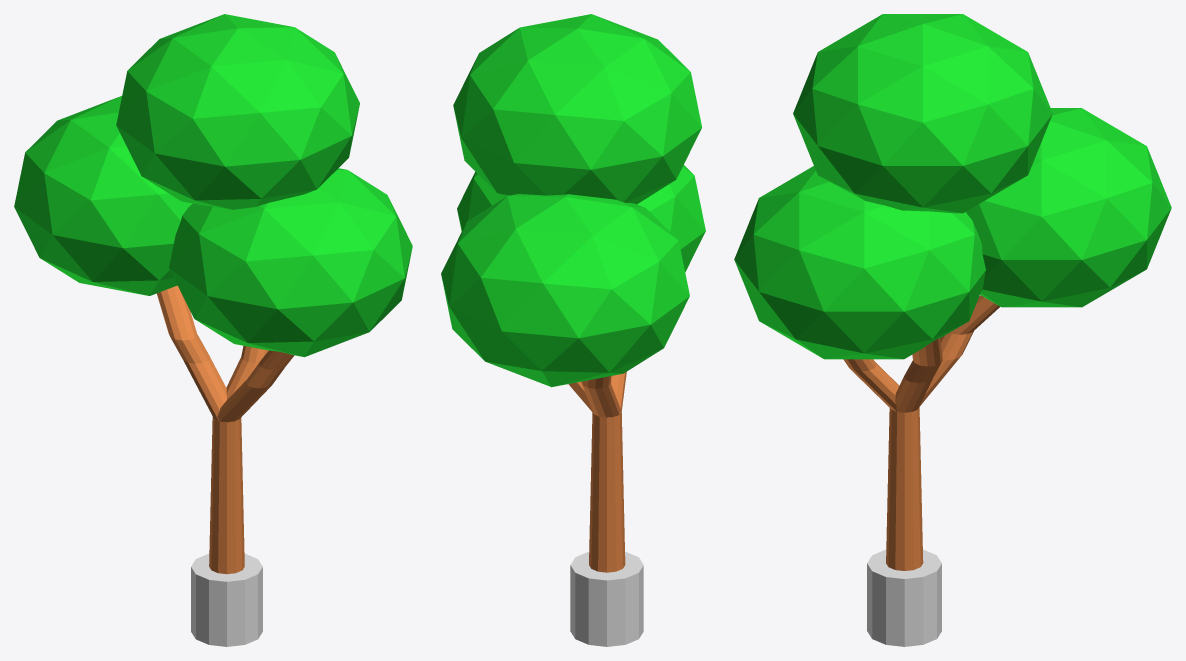
Rendered from low-poly-tree.glb.
The picture shows the model from 3 angles, left to right: view 1: azimuth 30°, elevation 25°; view 2: azimuth 150°, elevation 25°; view 3: azimuth 270°, elevation 25°; orthographic projection. The views are drawn at different scales.
Visible parts, largest first — view 1: Icosphere.002, Icosphere, Icosphere.001, Cylinder.001, Cylinder, Cylinder.002, Cylinder.003; view 2: Icosphere.001, Icosphere.002, Cylinder, Cylinder.001, Icosphere, Cylinder.002; view 3: Icosphere.002, Icosphere, Icosphere.001, Cylinder.001, Cylinder, Cylinder.003, Cylinder.002.
Boxes of the visible parts, x1,y1,x2,y2 form: Icosphere.002: [116, 14, 359, 209]; Icosphere: [169, 168, 412, 357]; Icosphere.001: [14, 96, 192, 295]; Cylinder.001: [209, 350, 294, 574]; Cylinder: [191, 553, 262, 646]; Cylinder.002: [156, 285, 231, 422]; Cylinder.003: [226, 346, 268, 399]; Icosphere.001: [441, 194, 689, 387]; Icosphere.002: [453, 14, 701, 204]; Cylinder: [570, 551, 643, 646]; Cylinder.001: [589, 371, 626, 572]; Icosphere: [457, 165, 705, 271]; Cylinder.002: [581, 376, 621, 417]; Icosphere.002: [793, 14, 1052, 213]; Icosphere: [734, 166, 985, 359]; Icosphere.001: [966, 108, 1171, 307]; Cylinder.001: [843, 359, 923, 570]; Cylinder: [867, 549, 941, 646]; Cylinder.003: [895, 338, 942, 412]; Cylinder.002: [895, 295, 999, 412].
Size of the model in its own units: 8.84 by 18.19 by 11.68.
